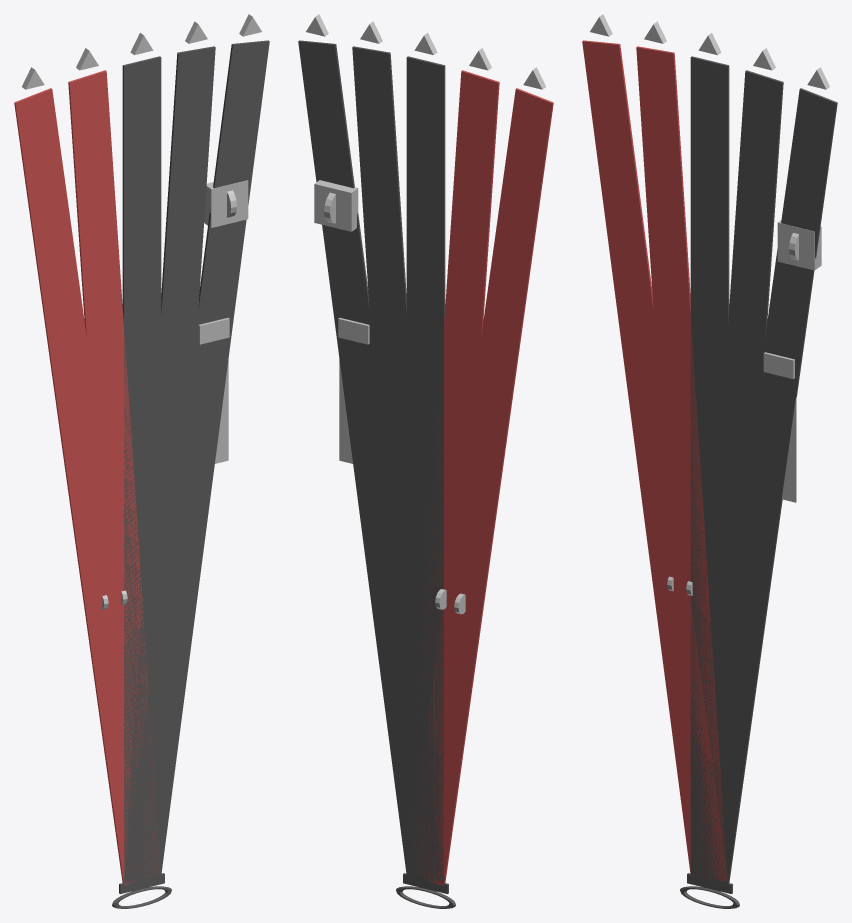
The model's file is SM_Riser_Real.FBX.
3 views of the same model, side by side, from view 1: azimuth 30°, elevation 25°; view 2: azimuth 150°, elevation 25°; view 3: azimuth 330°, elevation 25° (orthographic).
Visible parts, largest first — view 1: SM_Riser_Real; view 2: SM_Riser_Real; view 3: SM_Riser_Real.
Part boxes in pixels (x1,y1,x2,y2): SM_Riser_Real: [14, 14, 269, 908]; SM_Riser_Real: [298, 14, 553, 908]; SM_Riser_Real: [582, 14, 837, 908].
Size of the model in its own units: 0.1709 by 0.5599 by 0.02.
